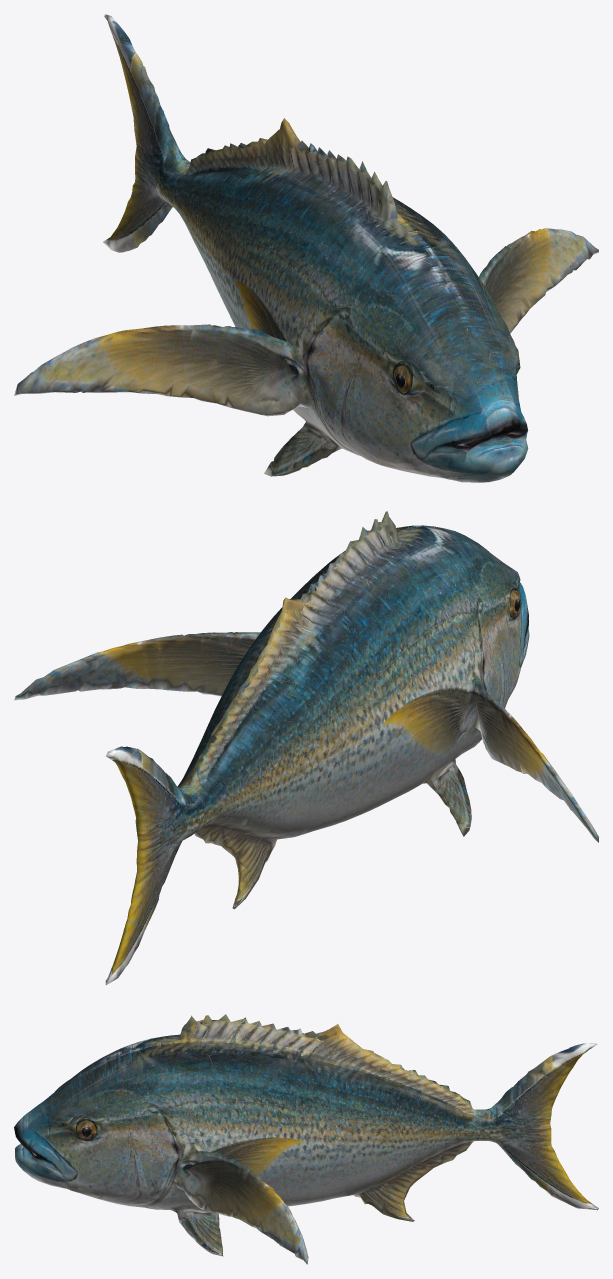
File: fish_emperor.glb
3 renders of one model, top to bottom at view 1: azimuth 30°, elevation 25°; view 2: azimuth 150°, elevation 25°; view 3: azimuth 270°, elevation 25°, orthographic. The views are drawn at different scales.
Parts seen in each view (by area): view 1: geometry_0; view 2: geometry_0; view 3: geometry_0.
Boxes of the visible parts, box(x1,y1,x2,y2) form: geometry_0: box(14, 14, 598, 482); geometry_0: box(14, 511, 598, 984); geometry_0: box(14, 1014, 598, 1264).
Bounding box in the file's own units: 1.64 × 0.7704 × 1.96.
1 material, 1 textured.
